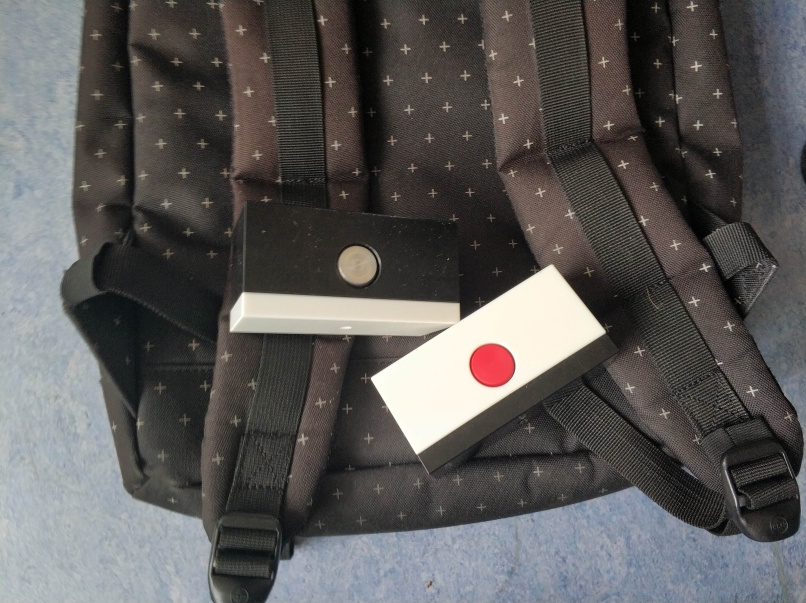black+white+red: (368, 263, 621, 484)
white+black+silver: (223, 201, 461, 338)
